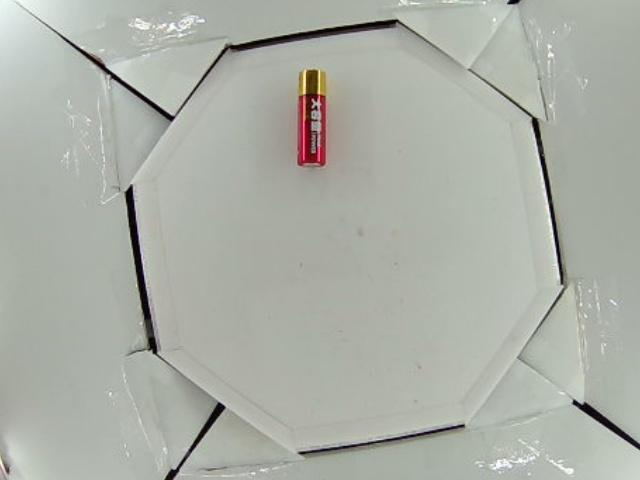Battery: (297, 68, 325, 168)
